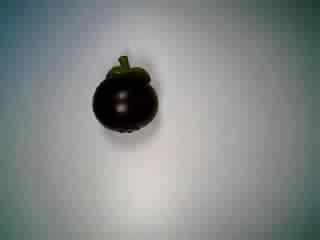mangosteen: (77, 51, 163, 138)
